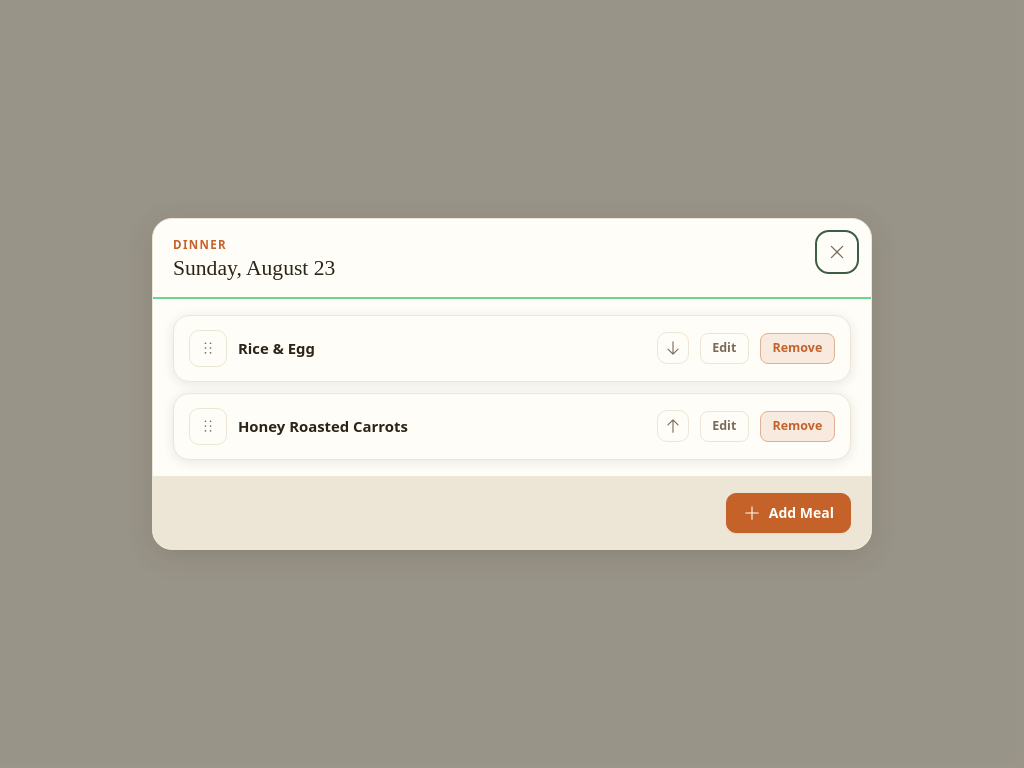
it: SlotManagerModal › uses the meal type on the header and labels row actions contextually
Expected: the header has style "--meal-type-color: #22c55e", [153,219,871,299]
Expected: the button with aria-label "Edit Rice & Egg" is shown, [700,333,749,364]
Focus the button named "Move Rice & Egg down" at (672, 348), box [656,332,688,364]
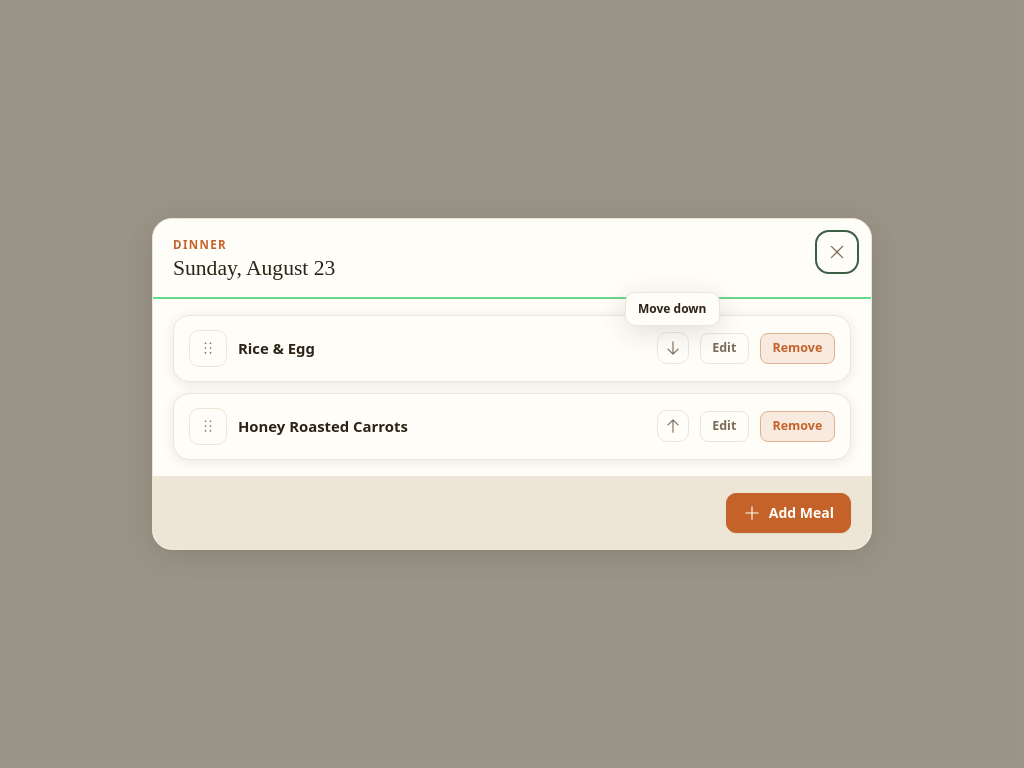
Result: the tooltip reads "Move down" at [638,300,706,317]
